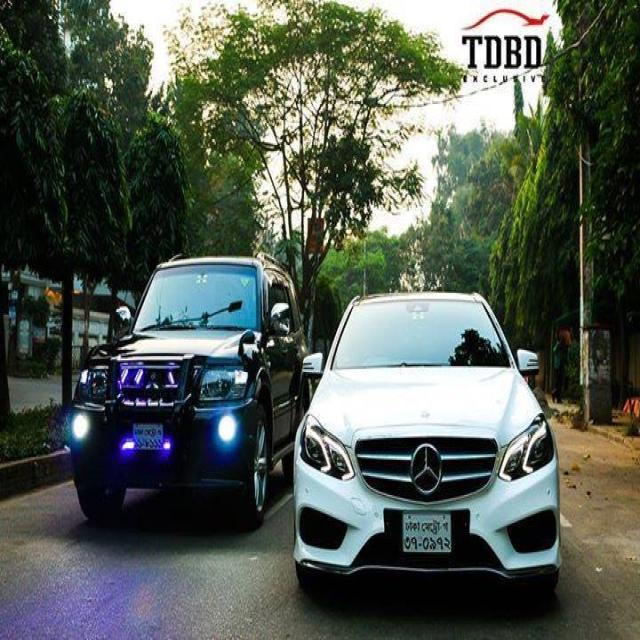numberplate: (401, 510, 452, 555), (132, 420, 162, 450)
